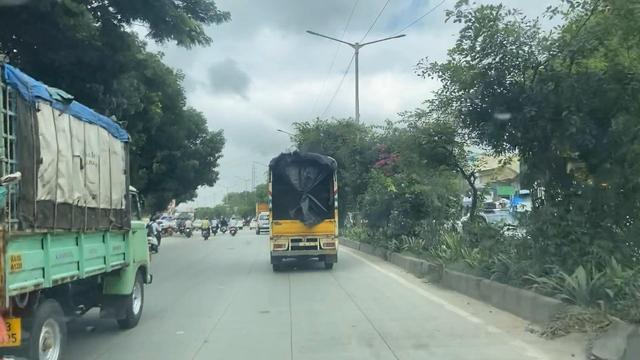HMV: (0, 49, 178, 360), (258, 127, 358, 297)
